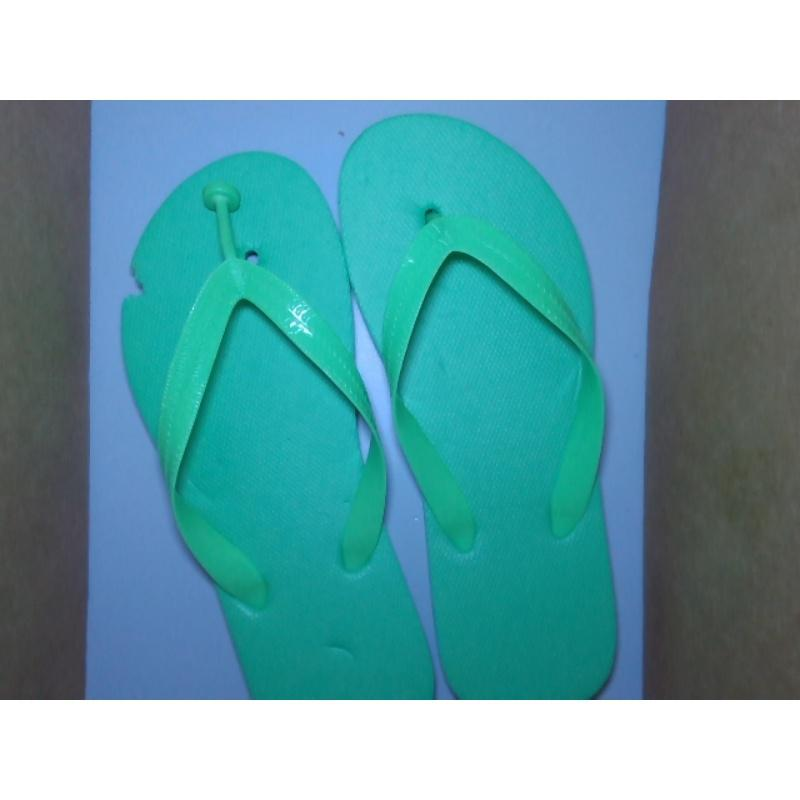chipped: (110, 245, 162, 319)
detached: (194, 170, 258, 229)
